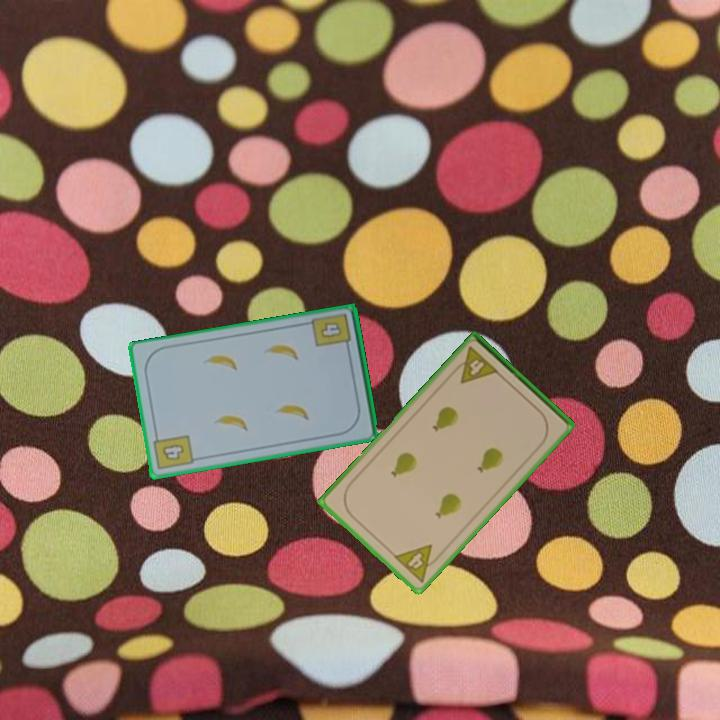4b: (150, 429, 196, 473), (309, 310, 354, 354)
4p: (390, 541, 445, 586), (448, 343, 502, 387)
